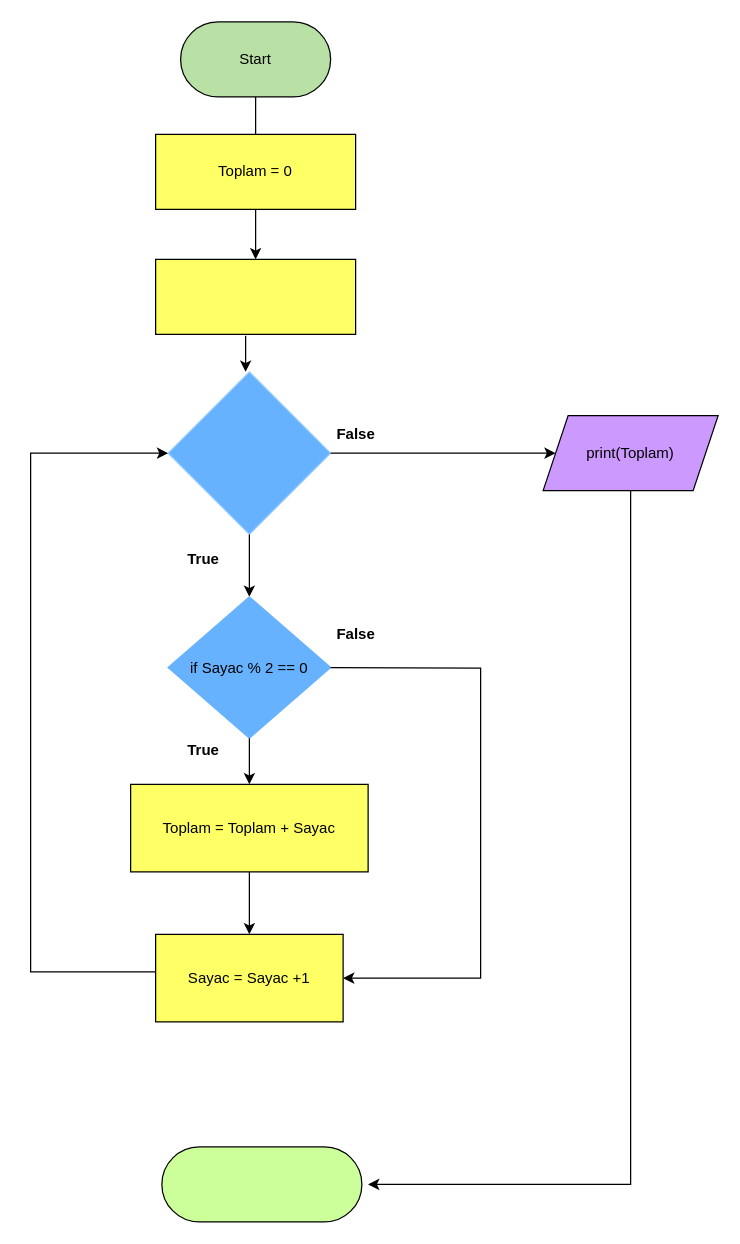
Some shapes in this 740 by 1244 pixel diagram are drawn without their labels. Here are the shapes that lost their labels. From the top down, the box of each, then its label:
(154, 258, 356, 334): Sayac = 1
(167, 371, 331, 534): if Sayac <= 100
(161, 1146, 362, 1222): STOP
